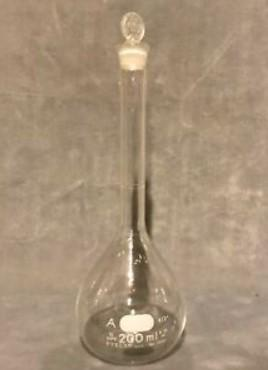Volumetric flask: (71, 13, 206, 364)
